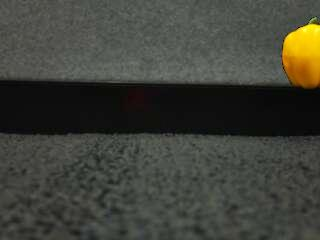Capsicum: (281, 16, 320, 89)
